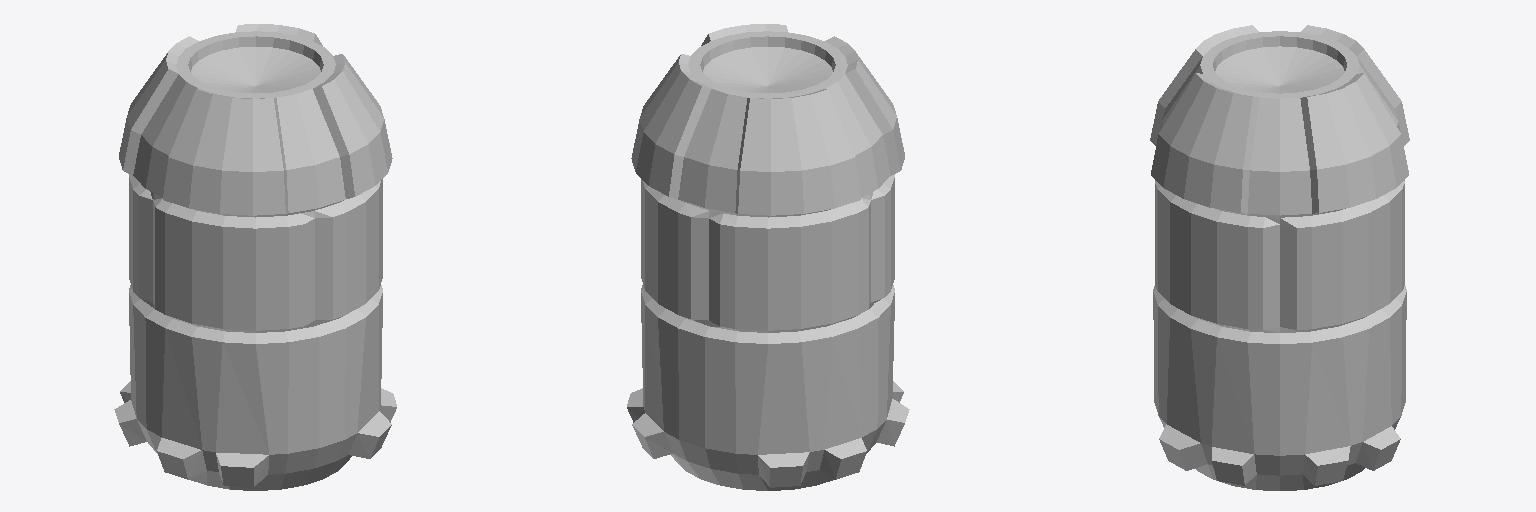
Rendered from tut_storage_lp.obj.
The picture shows the model from 3 angles: view 1: azimuth 30°, elevation 25°; view 2: azimuth 150°, elevation 25°; view 3: azimuth 270°, elevation 25°; orthographic projection.
Parts seen in each view (by area): view 1: default; view 2: default; view 3: default.
Part boxes in pixels (bbox=[...]): default: bbox=[114, 24, 396, 490]; default: bbox=[627, 24, 909, 490]; default: bbox=[1150, 25, 1409, 490].
Bounding box in the file's own units: 2.13 × 3.35 × 2.02.